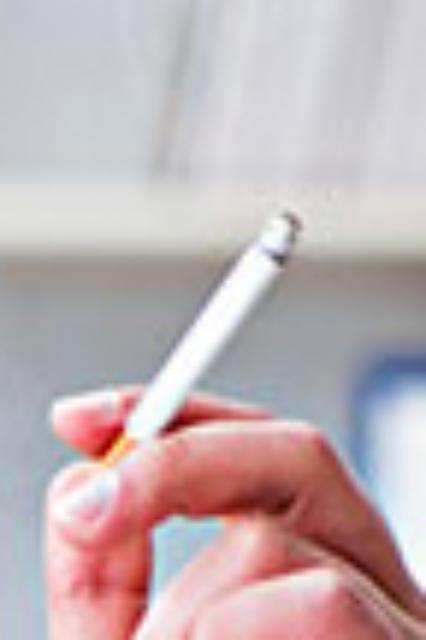Cigarette: (78, 207, 306, 503)
